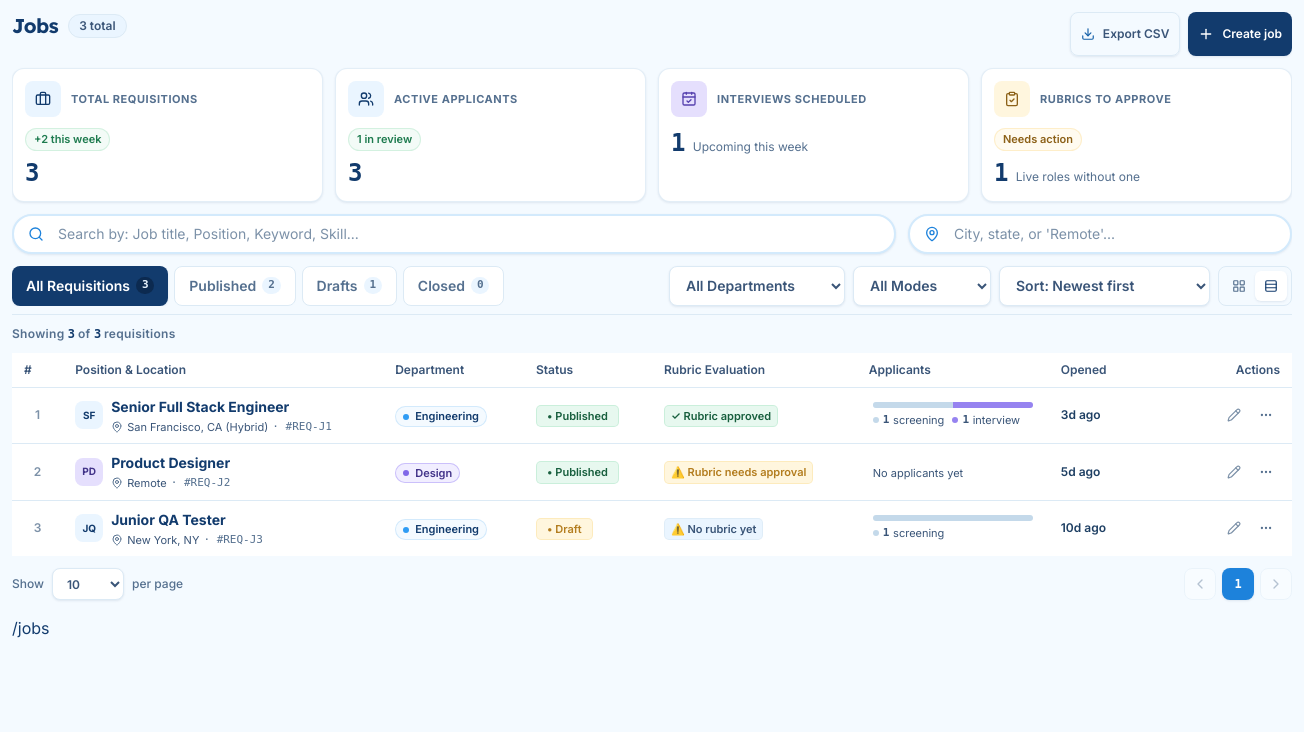
Test: JobList Recruiter UX & Navigation › filters jobs by keyword search
The width and height of the screenshot is (1304, 732).
Expected: the button "Senior Full Stack Engineer" is shown, [111,396,332,416]
Type "Designer" into the search field with placeholder "Search by: Job title, Position, Keyword, Skill..." at (454, 234), box [12,214,896,254]
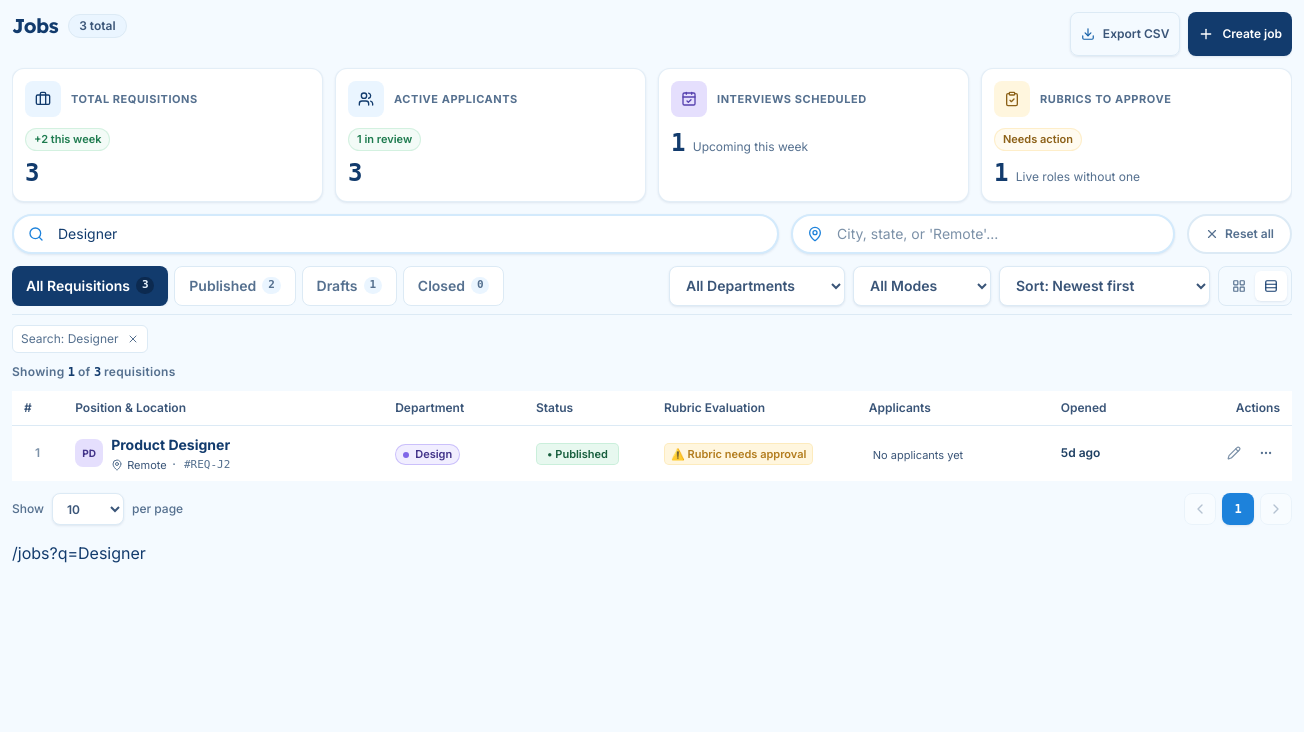
Expected: the button "Product Designer" is shown, [111,434,230,454]
Now the button "Senior Full Stack Engineer" is gone
